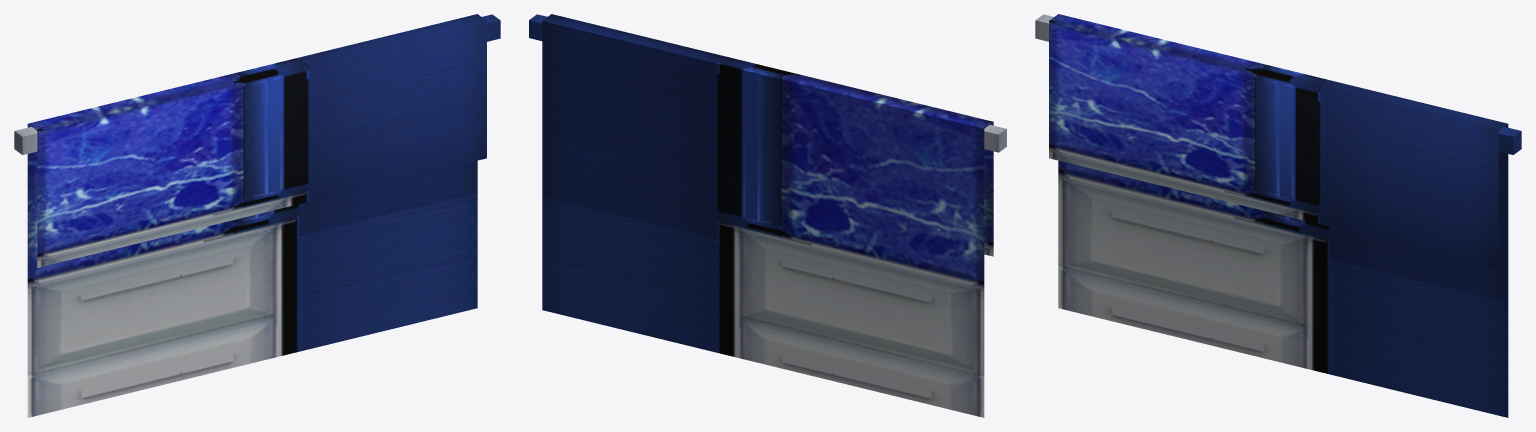
Rendered from furni_0200528.FBX.
3 views of the same model, side by side, from view 1: azimuth 30°, elevation 25°; view 2: azimuth 150°, elevation 25°; view 3: azimuth 330°, elevation 25° (orthographic).
Visible parts, largest first — view 1: furni_0200528; view 2: furni_0200528; view 3: furni_0200528.
Boxes of the visible parts, x1,y1,x2,y2 form: furni_0200528: (14,14,500,417); furni_0200528: (529,14,1006,417); furni_0200528: (1035,14,1521,417).
Bounding box in the file's own units: 87.31 × 51.37 × 3.04.
Materials: 1 (1 with a texture image).
